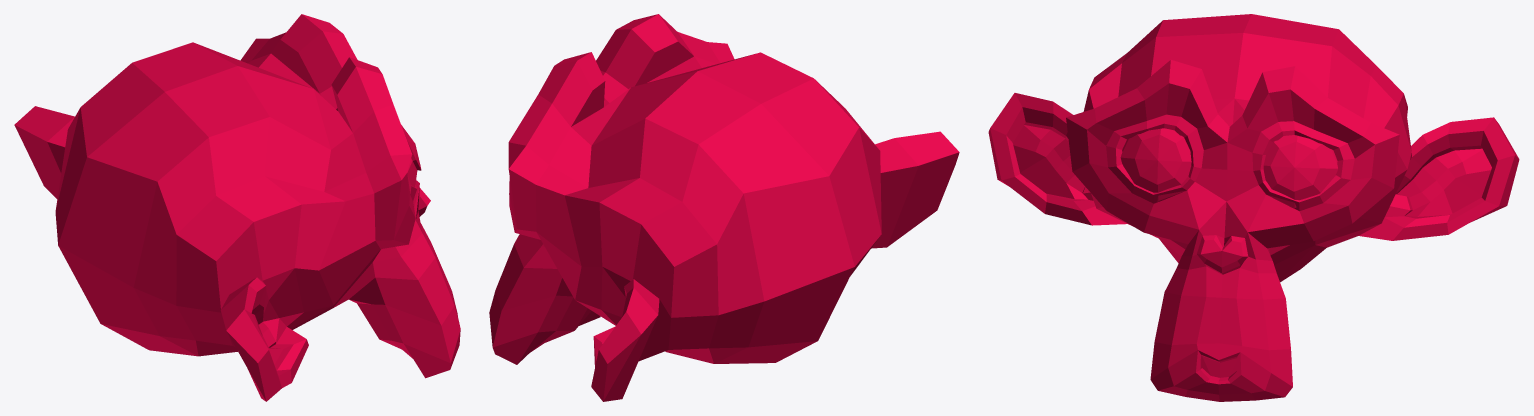
Rendered from aaaaaaaaaaaglb.glb.
3 renders of one model, left to right at view 1: azimuth 30°, elevation 25°; view 2: azimuth 150°, elevation 25°; view 3: azimuth 270°, elevation 25°, orthographic. The views are drawn at different scales.
Visible parts, largest first — view 1: Suzanne; view 2: Suzanne; view 3: Suzanne.
Part boxes in pixels (x1,y1,x2,y2): Suzanne: (14, 14, 460, 401); Suzanne: (489, 14, 959, 401); Suzanne: (988, 14, 1519, 401).
Size of the model in its own units: 1.99 by 1.7 by 2.72.
